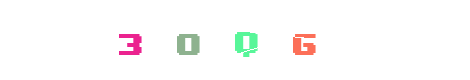0: (181, 0, 261, 80)
3: (152, 0, 232, 80)
G: (206, 0, 286, 80)
Q: (195, 0, 275, 80)
